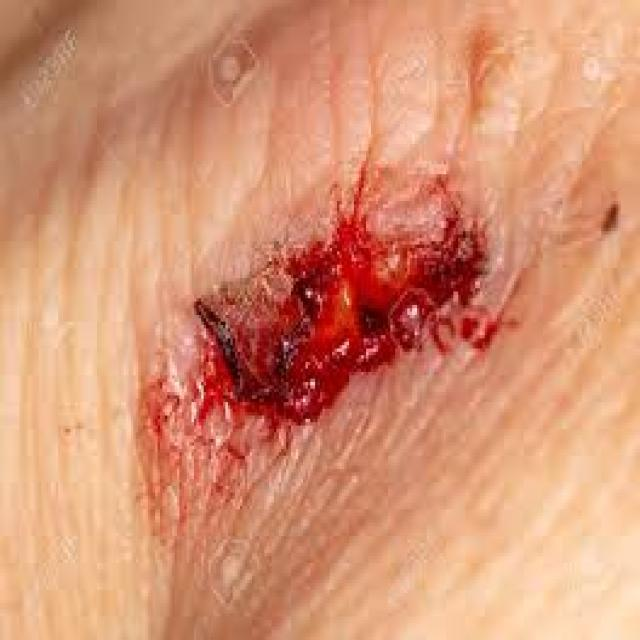wound: (134, 166, 509, 473)
